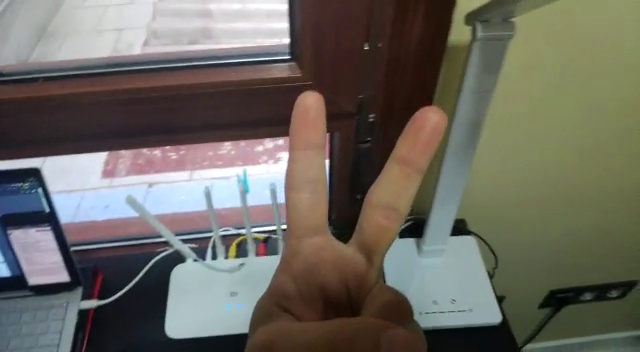Peace: (240, 84, 454, 352)
